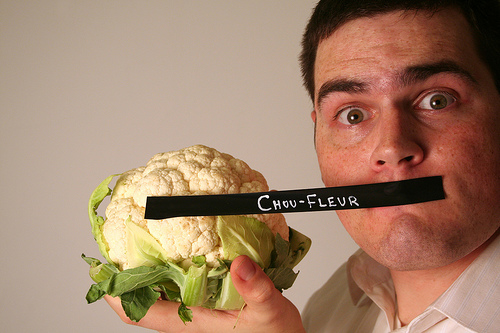cauliflower: (81, 144, 313, 326)
